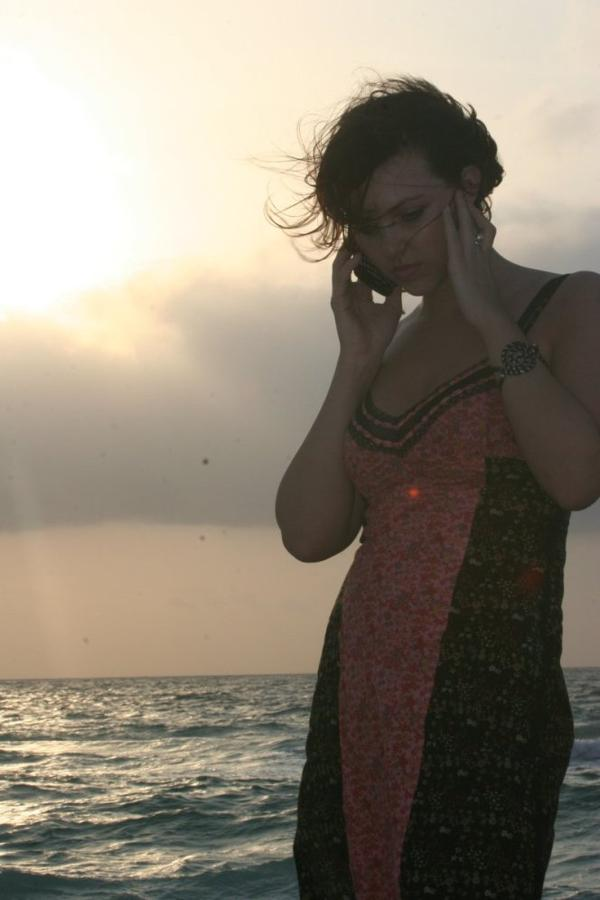person: (269, 83, 600, 894)
